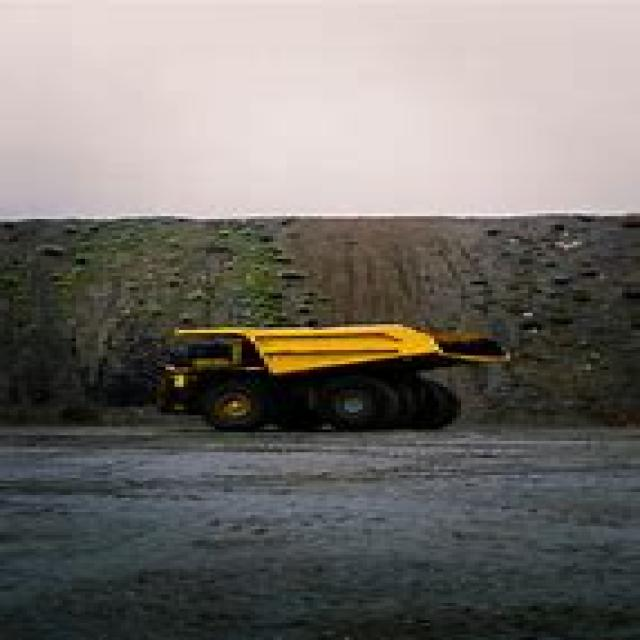dump_truck: (143, 307, 510, 444)
